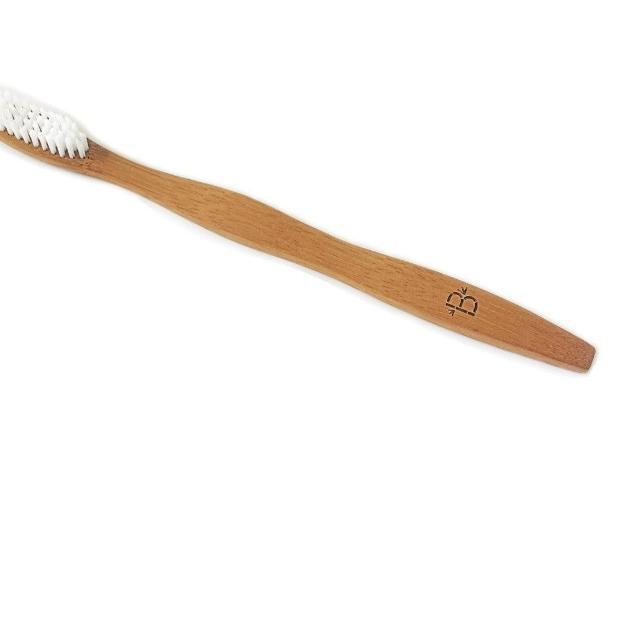toothbrush: (0, 57, 640, 415)
